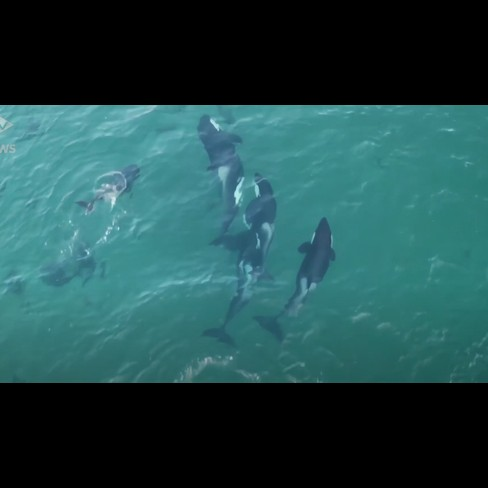orca: (196, 170, 294, 350), (254, 211, 353, 341), (189, 110, 250, 251), (71, 158, 155, 219)
